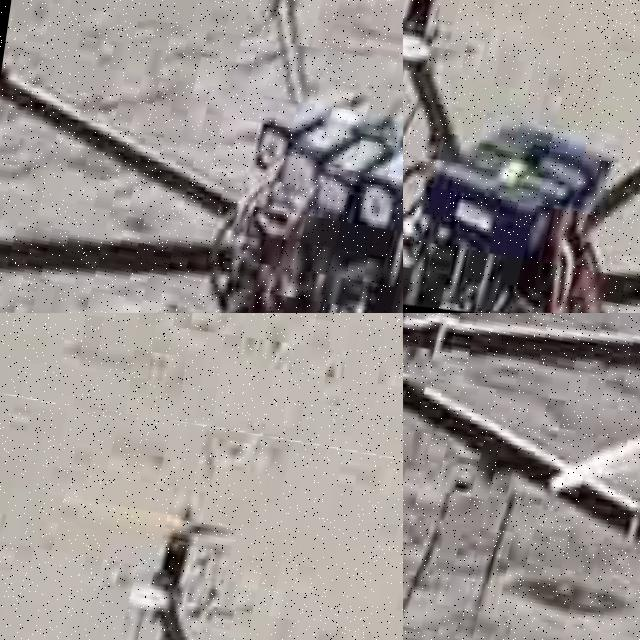drone: (0, 0, 403, 313), (0, 381, 403, 640), (403, 313, 640, 640), (403, 0, 640, 313)
